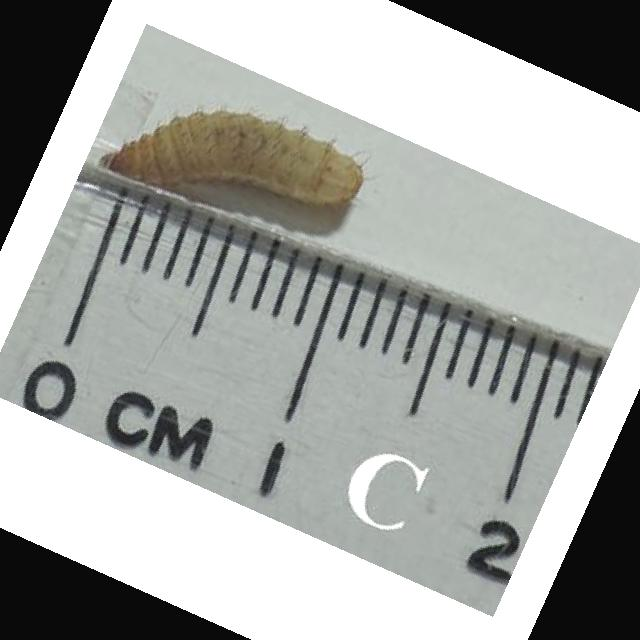Maggot: (98, 106, 370, 207)
